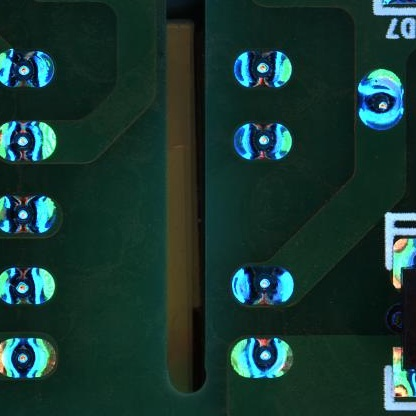spot: (357, 65, 405, 130), (228, 336, 295, 381), (231, 266, 295, 307), (235, 121, 294, 163), (234, 48, 291, 90), (1, 337, 55, 377), (1, 196, 57, 234), (1, 268, 54, 307), (1, 48, 54, 86), (1, 123, 55, 160)
